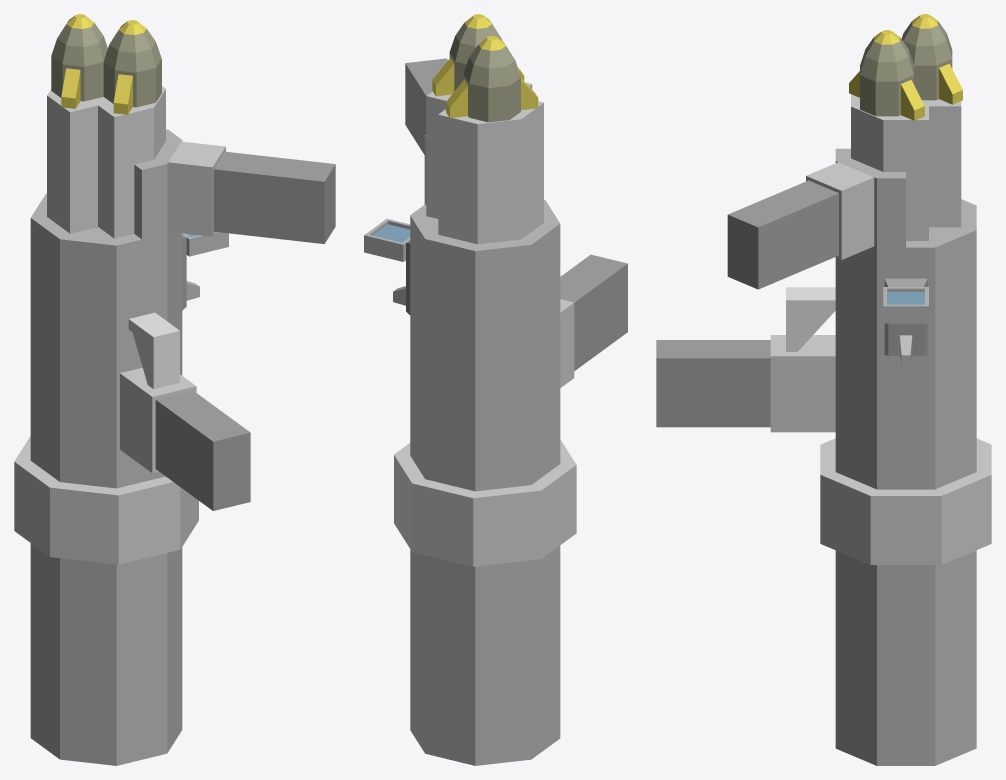
Rendered from rocketlaunchermodernrotating.fbx.
3 renders of one model, left to right at view 1: azimuth 30°, elevation 25°; view 2: azimuth 150°, elevation 25°; view 3: azimuth 270°, elevation 25°, orthographic.
Parts seen in each view (by area): view 1: imagetostl_mesh200, imagetostl_mesh289, imagetostl_mesh288, imagetostl_mesh203, imagetostl_mesh226, imagetostl_mesh290, imagetostl_mesh183, imagetostl_mesh285, imagetostl_mesh257, imagetostl_mesh176, imagetostl_mesh121, imagetostl_mesh220 (+32 smaller); view 2: imagetostl_mesh177, imagetostl_mesh189, imagetostl_mesh291, imagetostl_mesh293, imagetostl_mesh203, imagetostl_mesh290, imagetostl_mesh158, imagetostl_mesh113, imagetostl_mesh185, imagetostl_mesh186, imagetostl_mesh192, imagetostl_mesh257 (+15 smaller); view 3: imagetostl_mesh295, imagetostl_mesh192, imagetostl_mesh217, imagetostl_mesh287, imagetostl_mesh294, imagetostl_mesh259, imagetostl_mesh230, imagetostl_mesh240, imagetostl_mesh283, imagetostl_mesh169, imagetostl_mesh171, imagetostl_mesh214 (+23 smaller).
Part boxes in pixels (x1=…): imagetostl_mesh200: x1=60, y1=239, x2=116, y2=488; imagetostl_mesh289: x1=60, y1=558, x2=116, y2=765; imagetostl_mesh288: x1=116, y1=553, x2=167, y2=765; imagetostl_mesh203: x1=30, y1=218, x2=59, y2=481; imagetostl_mesh226: x1=213, y1=169, x2=324, y2=243; imagetostl_mesh290: x1=30, y1=543, x2=59, y2=759; imagetostl_mesh183: x1=50, y1=487, x2=118, y2=564; imagetostl_mesh285: x1=118, y1=482, x2=180, y2=564; imagetostl_mesh257: x1=155, y1=400, x2=213, y2=510; imagetostl_mesh176: x1=114, y1=107, x2=153, y2=238; imagetostl_mesh121: x1=70, y1=105, x2=97, y2=233; imagetostl_mesh220: x1=168, y1=162, x2=212, y2=236; imagetostl_mesh177: x1=475, y1=245, x2=531, y2=491; imagetostl_mesh189: x1=425, y1=239, x2=475, y2=491; imagetostl_mesh291: x1=475, y1=560, x2=531, y2=765; imagetostl_mesh293: x1=425, y1=555, x2=475, y2=765; imagetostl_mesh203: x1=531, y1=224, x2=560, y2=484; imagetostl_mesh290: x1=531, y1=545, x2=560, y2=759; imagetostl_mesh158: x1=477, y1=119, x2=521, y2=244; imagetostl_mesh113: x1=438, y1=114, x2=477, y2=244; imagetostl_mesh185: x1=473, y1=490, x2=541, y2=566; imagetostl_mesh186: x1=412, y1=483, x2=473, y2=566; imagetostl_mesh192: x1=410, y1=216, x2=425, y2=478; imagetostl_mesh257: x1=574, y1=264, x2=627, y2=370; imagetostl_mesh295: x1=877, y1=565, x2=935, y2=765; imagetostl_mesh192: x1=935, y1=230, x2=976, y2=489; imagetostl_mesh217: x1=835, y1=161, x2=876, y2=489; imagetostl_mesh287: x1=835, y1=550, x2=876, y2=765; imagetostl_mesh294: x1=935, y1=550, x2=976, y2=765; imagetostl_mesh259: x1=656, y1=358, x2=770, y2=427; imagetostl_mesh230: x1=758, y1=177, x2=841, y2=289; imagetostl_mesh240: x1=770, y1=356, x2=835, y2=432; imagetostl_mesh283: x1=870, y1=496, x2=941, y2=564; imagetostl_mesh169: x1=923, y1=102, x2=961, y2=227; imagetostl_mesh171: x1=883, y1=115, x2=928, y2=240; imagetostl_mesh214: x1=877, y1=355, x2=934, y2=489.
Size of the model in its own units: 4.15 by 12.36 by 5.28.
